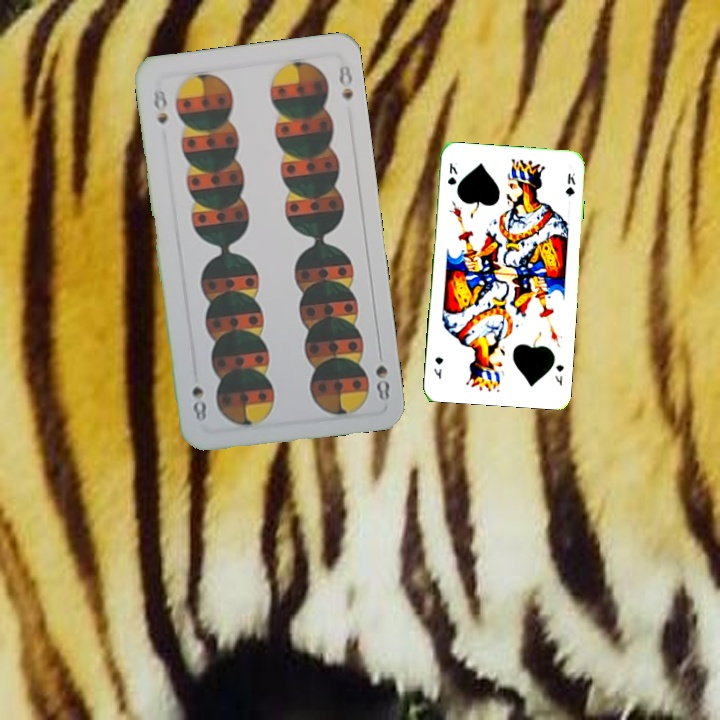GK: (444, 159, 460, 188), (551, 361, 566, 388)
S8: (371, 344, 393, 404), (149, 85, 170, 126)
